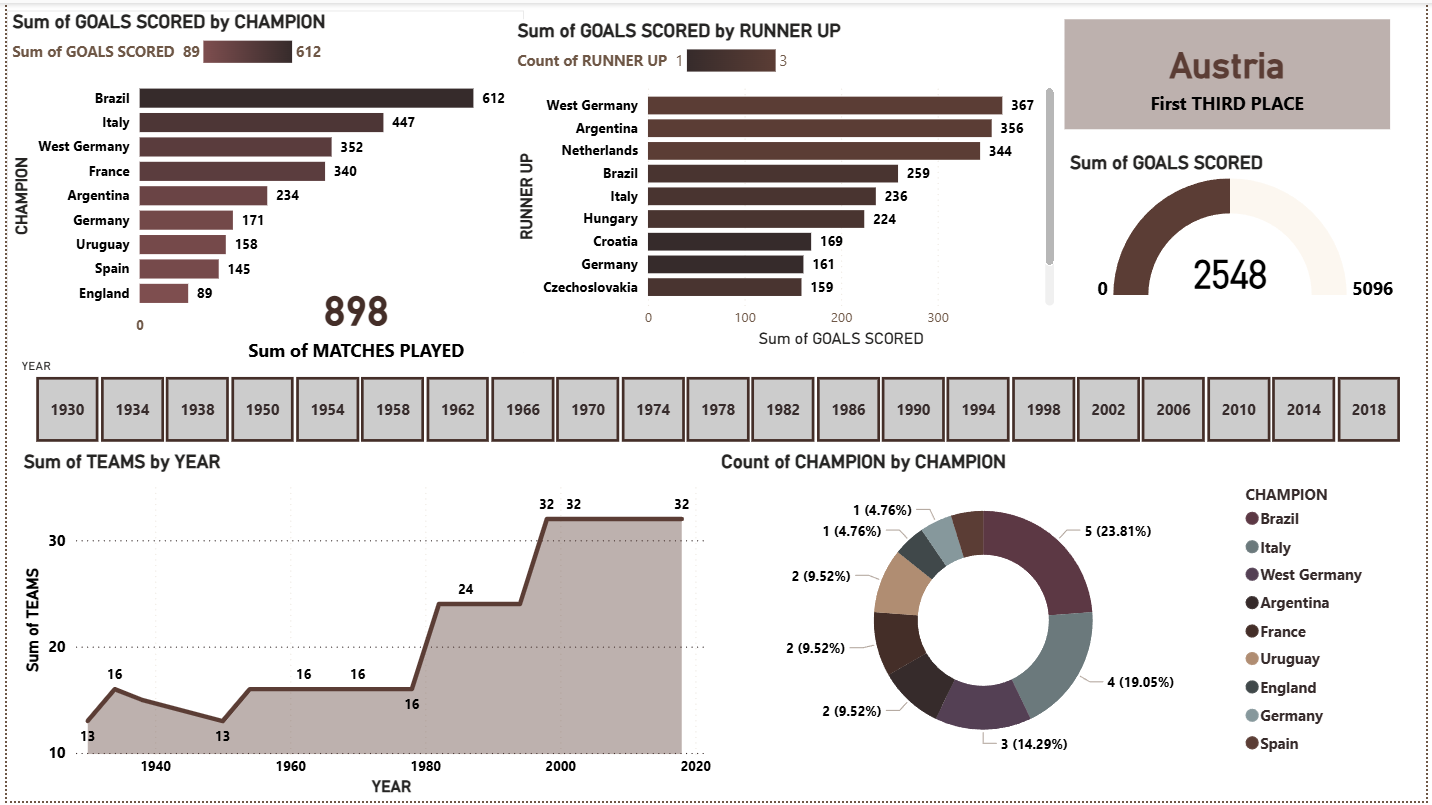

Layout of this report page (visuals, bound fields, positions):
{"tool":"powerbi","page":{"name":"Page 1","canvas":[1280,720],"ordinal":0},"visuals":[{"type":"clusteredBarChart","fields":{"Category":["FIFA - World Cup Summary.CHAMPION"],"Y":["Sum(FIFA - World Cup Summary.GOALS SCORED)"]},"box":[0,6.8,466.6,315.6],"z":0},{"type":"barChart","fields":{"Category":["FIFA - World Cup Summary.RUNNER UP"],"Y":["Sum(FIFA - World Cup Summary.GOALS SCORED)"]},"box":[454.9,14.7,494,300.8],"z":1000},{"type":"gauge","fields":{"Y":["Sum(FIFA - World Cup Summary.GOALS SCORED)"]},"box":[953.8,134.5,326.5,139.4],"z":2000},{"type":"slicer","fields":{"Values":["FIFA - World Cup Summary.YEAR"]},"box":[0,315.5,1280.3,86.8],"z":3000},{"type":"areaChart","fields":{"Category":["FIFA - World Cup Summary.YEAR"],"Y":["Sum(FIFA - World Cup Summary.TEAMS)"]},"box":[9.8,403.5,629.8,316.7],"z":4000},{"type":"donutChart","fields":{"Category":["FIFA - World Cup Summary.CHAMPION"],"Y":["CountNonNull(FIFA - World Cup Summary.CHAMPION)"]},"box":[639.5,403.5,596.7,287.4],"z":5000},{"type":"card","fields":{"Values":["Min(FIFA - World Cup Summary.THIRD PLACE)"]},"box":[953.8,14.7,293.5,99],"z":6000},{"type":"card","fields":{"Values":["Sum(FIFA - World Cup Summary.MATCHES PLAYED)"]},"box":[193.2,244.6,244.6,80.7],"z":7000}]}

Visuals, with their boxes in screenshot pixels (x1, y1, x2, y2), scaled from the page's 1280x720 canvas onto the 1432x805 screenshot:
clusteredBarChart - FIFA - World Cup Summary.CHAMPION x Sum(FIFA - World Cup Summary.GOALS SCORED): BBox(0, 8, 522, 360)
barChart - FIFA - World Cup Summary.RUNNER UP x Sum(FIFA - World Cup Summary.GOALS SCORED): BBox(509, 16, 1062, 353)
gauge - Sum(FIFA - World Cup Summary.GOALS SCORED): BBox(1067, 150, 1431, 306)
slicer - FIFA - World Cup Summary.YEAR: BBox(0, 353, 1431, 450)
areaChart - FIFA - World Cup Summary.YEAR x Sum(FIFA - World Cup Summary.TEAMS): BBox(11, 451, 716, 804)
donutChart - FIFA - World Cup Summary.CHAMPION x CountNonNull(FIFA - World Cup Summary.CHAMPION): BBox(715, 451, 1383, 772)
card - Min(FIFA - World Cup Summary.THIRD PLACE): BBox(1067, 16, 1395, 127)
card - Sum(FIFA - World Cup Summary.MATCHES PLAYED): BBox(216, 273, 490, 364)
